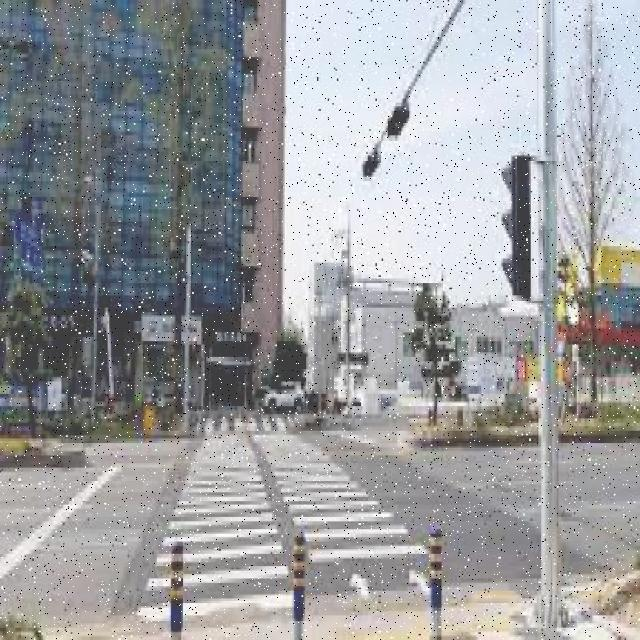Pedestrian crosswalk: (137, 434, 426, 620), (191, 406, 305, 443)
